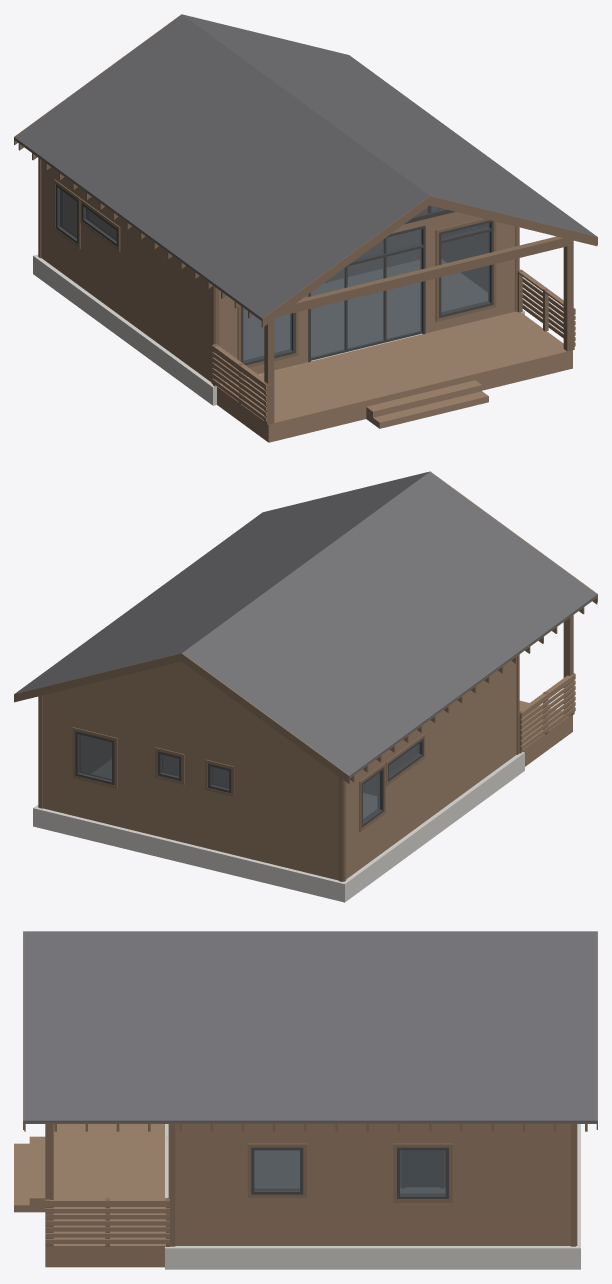
Rendered from cabin-2br-terrace_3d.glb.
3 views of the same model, one above another, from view 1: azimuth 30°, elevation 25°; view 2: azimuth 150°, elevation 25°; view 3: azimuth 270°, elevation 25° (orthographic). The views are drawn at different scales.
Visible parts, largest first — view 1: roof_tiles, wood, glass, trim, slab, frame, wood_in, rafters; view 2: roof_tiles, wood, slab, trim, glass, frame, wood_in; view 3: roof_tiles, wood, slab, trim, glass, frame, door, sheathing, rafters.
Part boxes in pixels (x1,y1,x2,y2): roof_tiles: [14, 14, 596, 319]; wood: [41, 160, 575, 442]; glass: [60, 189, 489, 361]; trim: [14, 14, 597, 424]; slab: [33, 254, 524, 405]; frame: [56, 184, 493, 365]; wood_in: [328, 207, 436, 281]; rafters: [18, 143, 597, 327]; roof_tiles: [15, 472, 597, 776]; wood: [43, 660, 575, 880]; slab: [33, 752, 524, 902]; trim: [14, 471, 597, 881]; glass: [79, 734, 419, 821]; frame: [75, 731, 423, 827]; wood_in: [164, 746, 416, 795]; roof_tiles: [24, 931, 596, 1122]; wood: [14, 1124, 570, 1267]; slab: [165, 1124, 580, 1269]; trim: [23, 931, 597, 1246]; glass: [254, 1150, 445, 1194]; frame: [251, 1147, 448, 1199]; door: [406, 1151, 439, 1186]; sheathing: [24, 1122, 596, 1123]; rafters: [24, 1124, 587, 1131].
Bounding box in the file's own units: 8.6 × 5.31 × 11.22.
